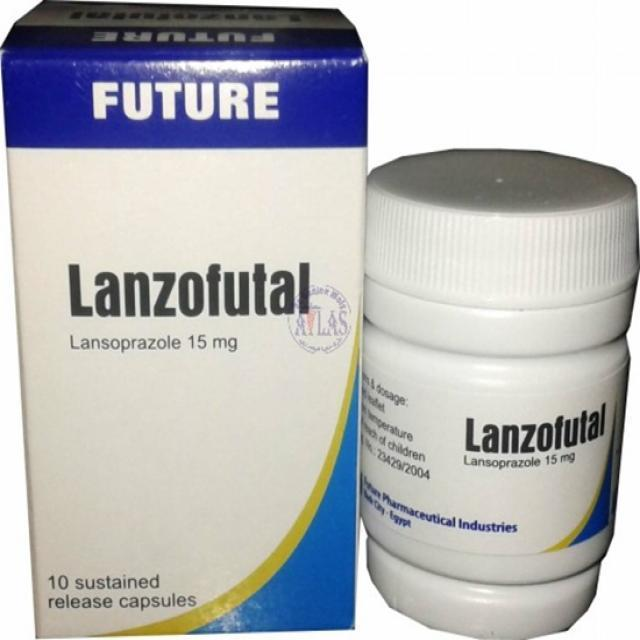drug-name: (60, 259, 315, 317)
